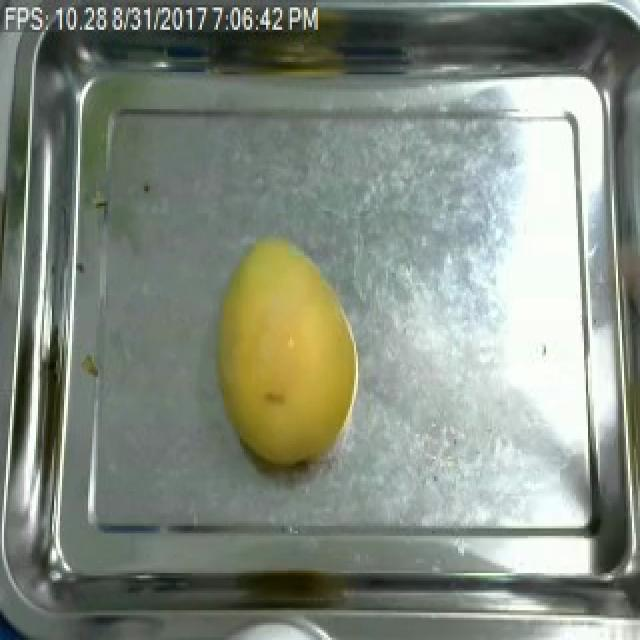fruit: (202, 228, 368, 481)
